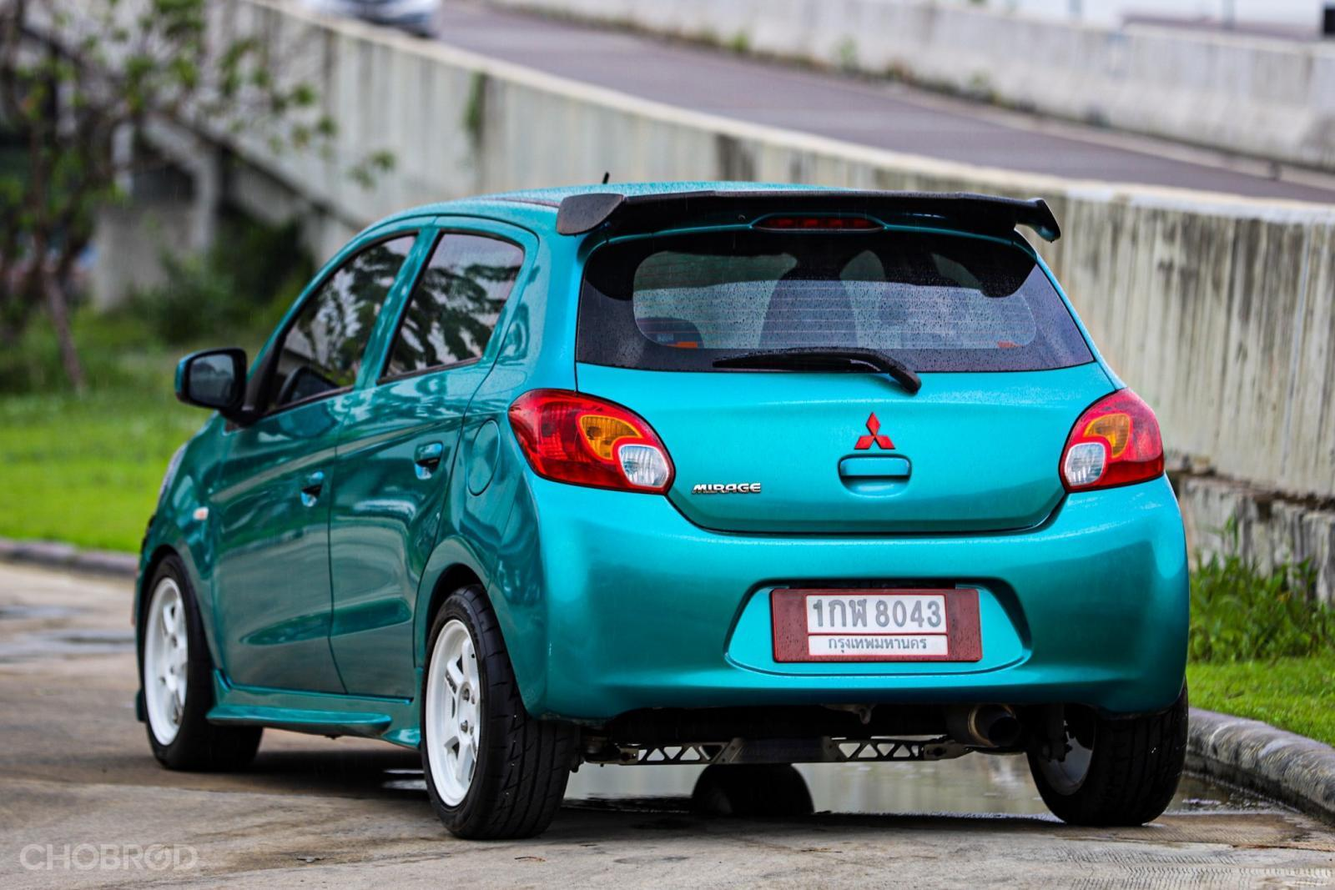license-plate: (773, 585, 984, 662)
